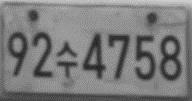2: (31, 31, 53, 78)
4: (82, 33, 107, 79)
5: (133, 34, 156, 81)
7: (107, 33, 130, 79)
8: (158, 33, 182, 81)
9: (7, 31, 28, 77)
수: (55, 40, 78, 79)
